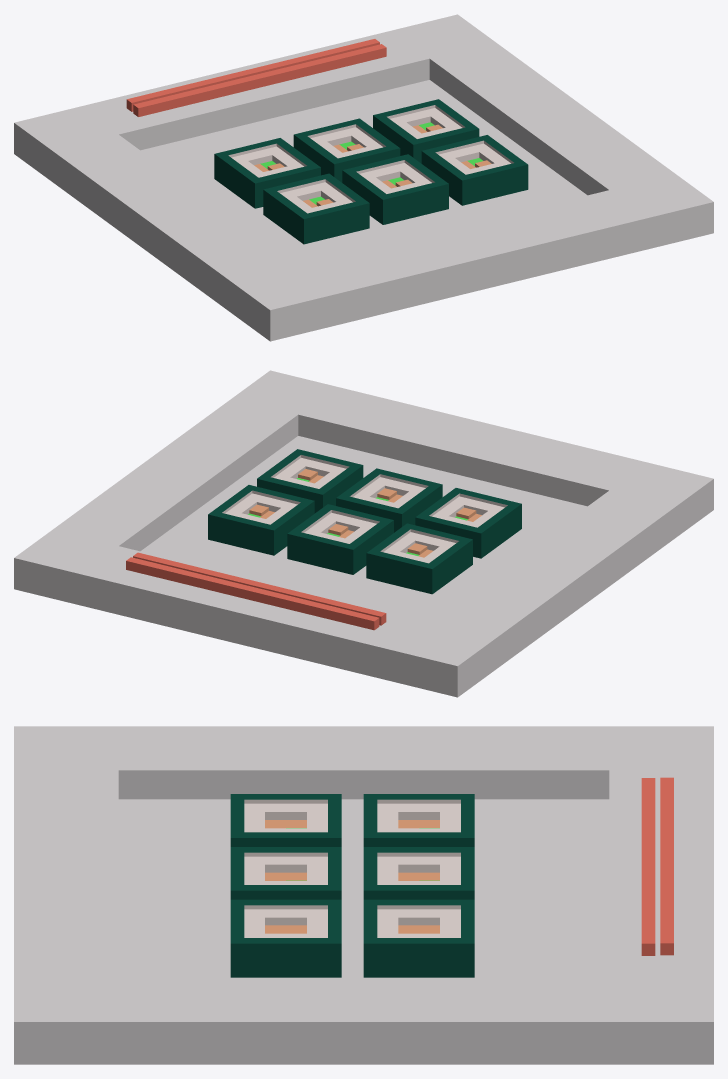
File: sushi-plate.gltf
3 views of the same model, one above another, from view 1: azimuth 30°, elevation 25°; view 2: azimuth 150°, elevation 25°; view 3: azimuth 270°, elevation 25° (orthographic). The views are drawn at different scales.
Parts seen in each view (by area): view 1: Plane, Sushi, Chopsticks2, Chopsticks; view 2: Plane, Sushi, Chopsticks, Chopsticks2; view 3: Plane, Sushi, Chopsticks2, Chopsticks.
Part boxes in pixels (box(x1,y1,x2,y2)): Plane: box(14, 14, 713, 341); Sushi: box(214, 99, 528, 244); Chopsticks2: box(133, 44, 386, 116); Chopsticks: box(126, 39, 379, 111); Plane: box(14, 370, 713, 697); Sushi: box(208, 449, 521, 594); Chopsticks: box(126, 557, 379, 630); Chopsticks2: box(133, 552, 386, 625); Plane: box(14, 726, 713, 1064); Sushi: box(230, 794, 474, 977); Chopsticks2: box(641, 778, 655, 955); Chopsticks: box(660, 777, 673, 955).
Size of what is drawn, in the model's own units: 8 by 0.715 by 8.
